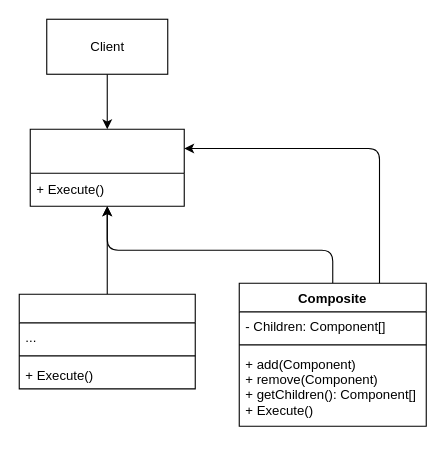
Some shapes in this 446 by 449 pixel diagram are drawn without their labels. The shapes that lost their labels are listed below. From the top down, each one's box as (x1, y1, x2, y2) in pixels, then its label:
(29, 128, 184, 206): <<Interface>> Component
(18, 293, 195, 389): Leaf
